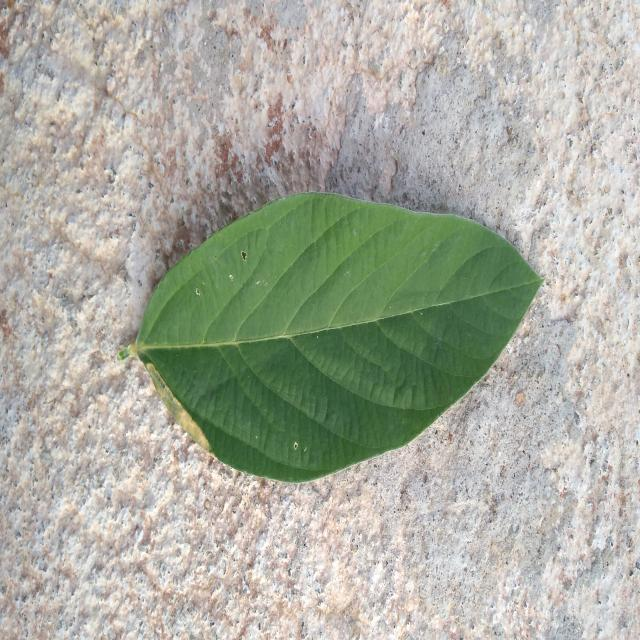pea: (120, 193, 542, 482)
